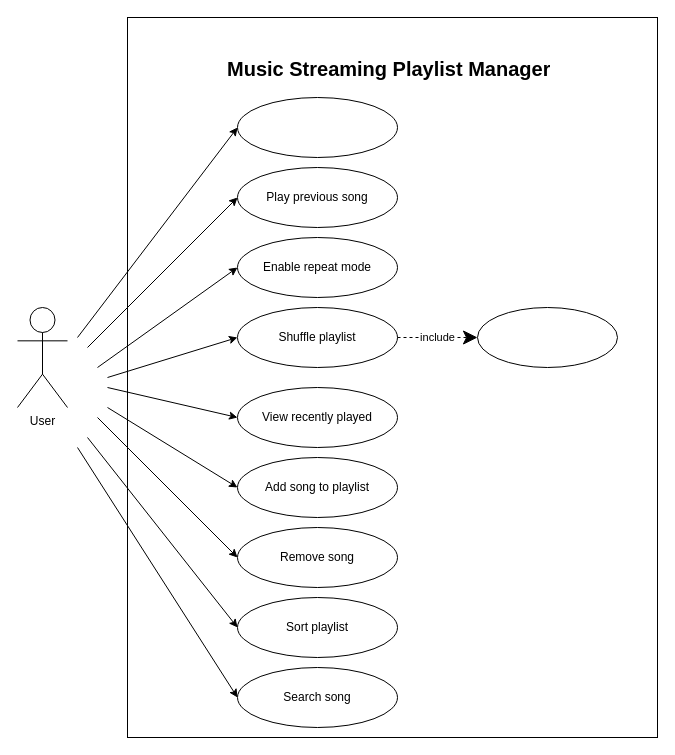
Image size: 675x755. Some labels were removed from this diagram. The box of each missing label's shape, as (x1, y1, x2, y2) in pixels:
Clear history stack: (476, 306, 618, 368)
Play next song: (236, 96, 398, 158)
